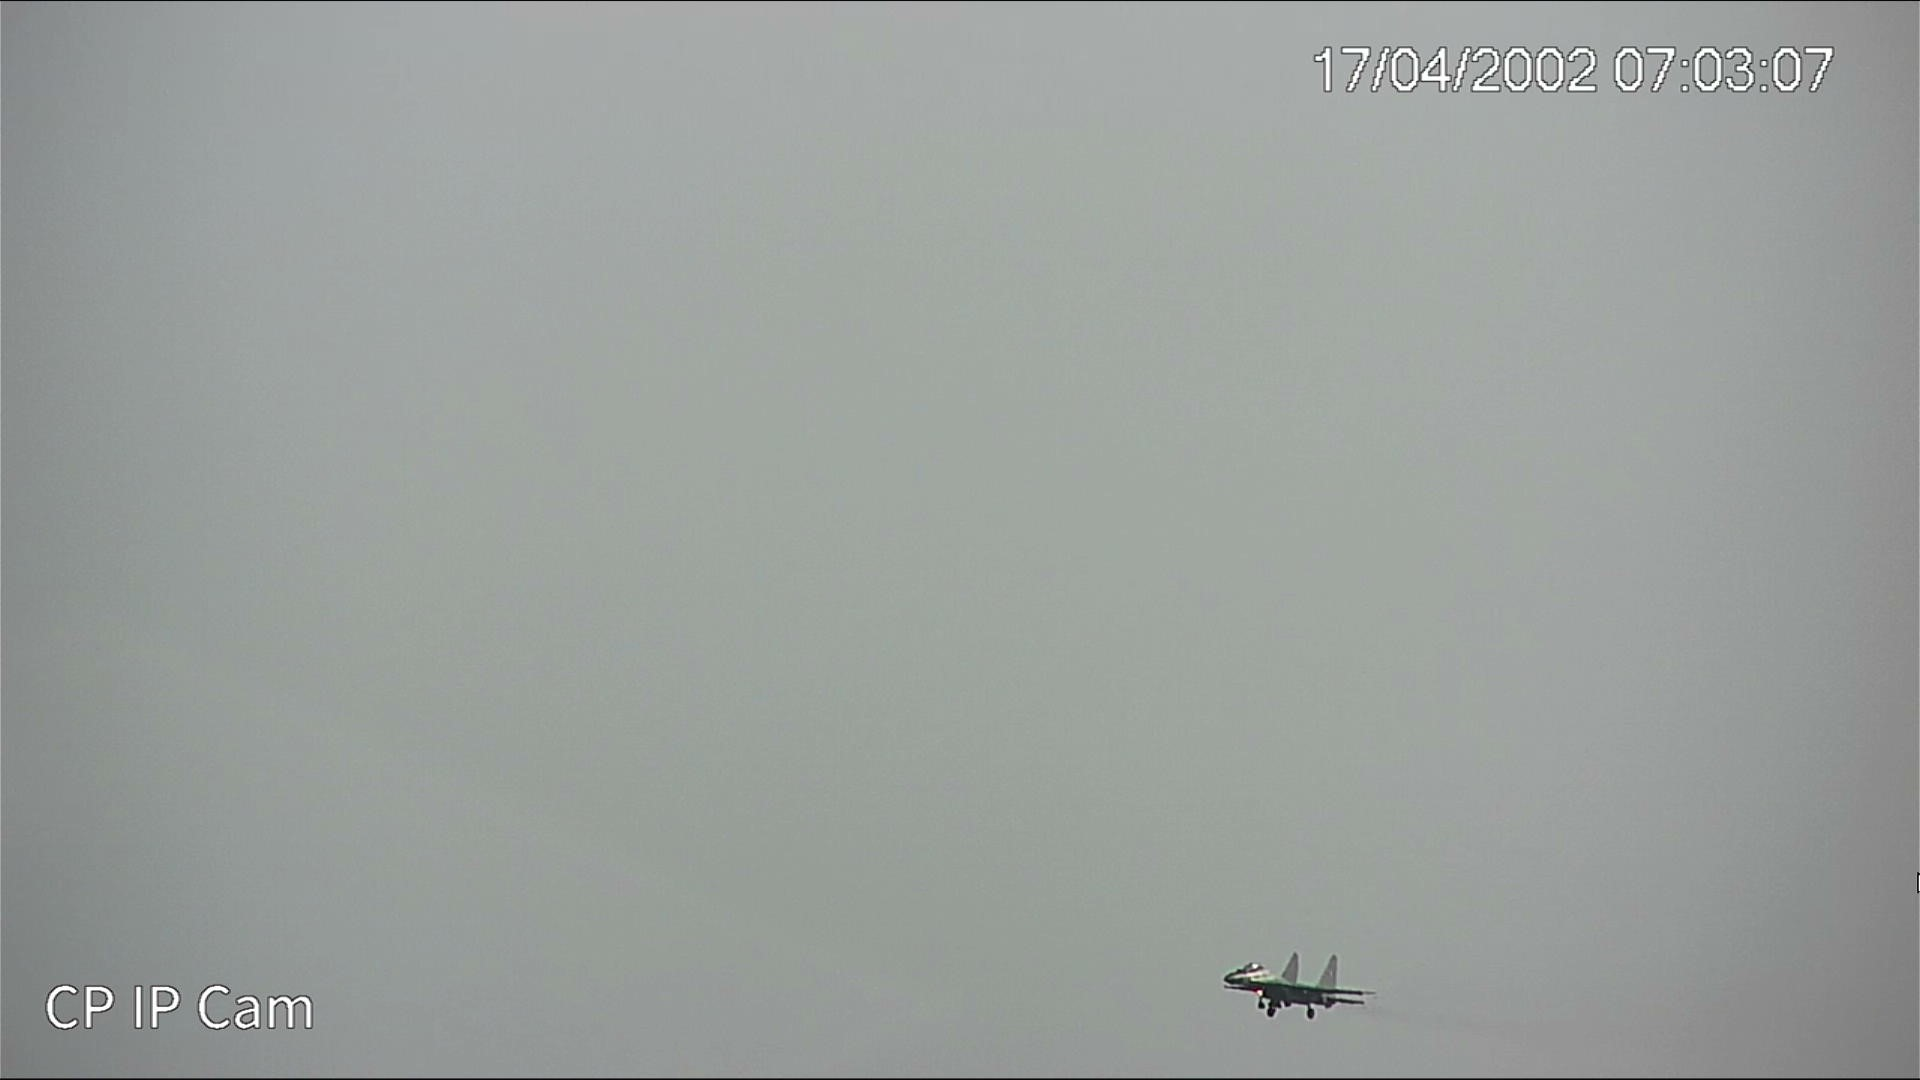SU_30: (1216, 955, 1378, 1018)
